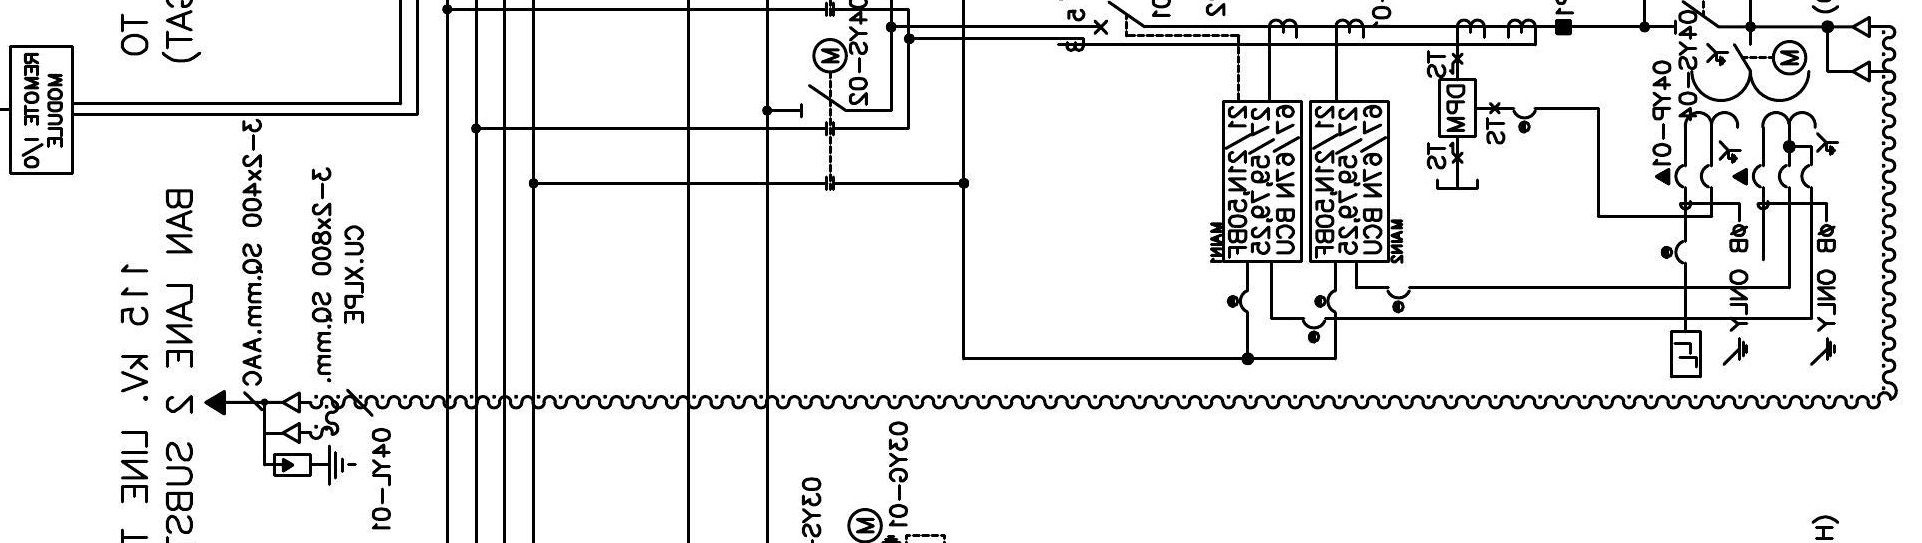115_1way_ds_w_motor: (799, 37, 849, 120), (1732, 39, 1808, 77)
115_la: (272, 444, 358, 487)
115_vt_3p: (1654, 42, 1841, 190)
DPM: (1438, 78, 1477, 137)
LL: (1669, 330, 1703, 380)
remote_io_module: (9, 44, 75, 175)
terminator_double: (1825, 15, 1872, 83), (262, 390, 302, 445)
